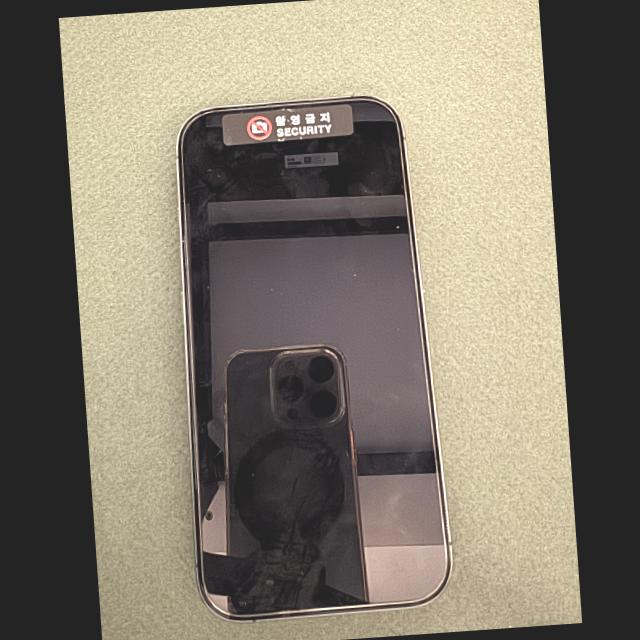phone: (176, 96, 451, 621)
sticker: (221, 104, 353, 145)
